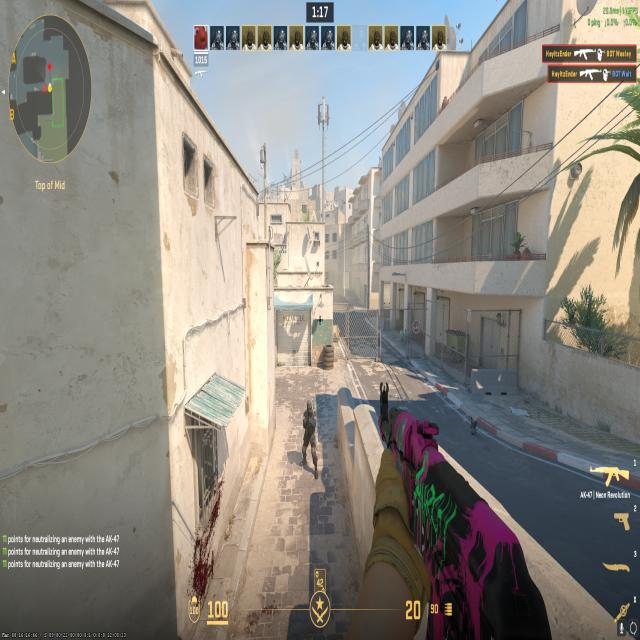ct: (292, 390, 326, 482)
